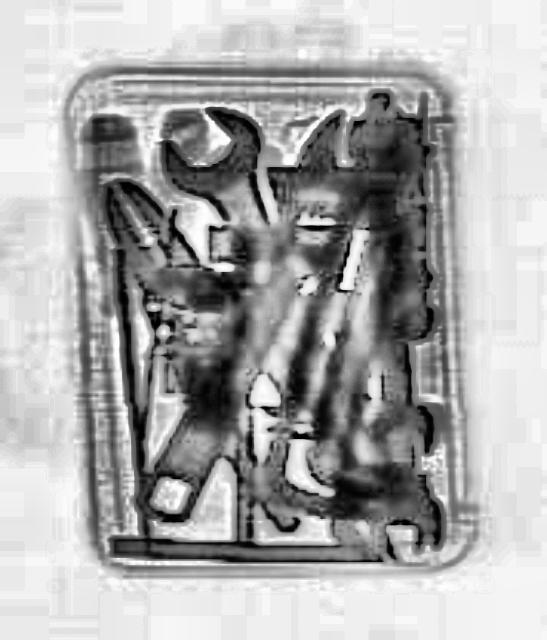Pliers: (58, 142, 370, 540)
Wrench: (114, 97, 400, 537), (144, 87, 382, 450), (274, 354, 450, 584)
